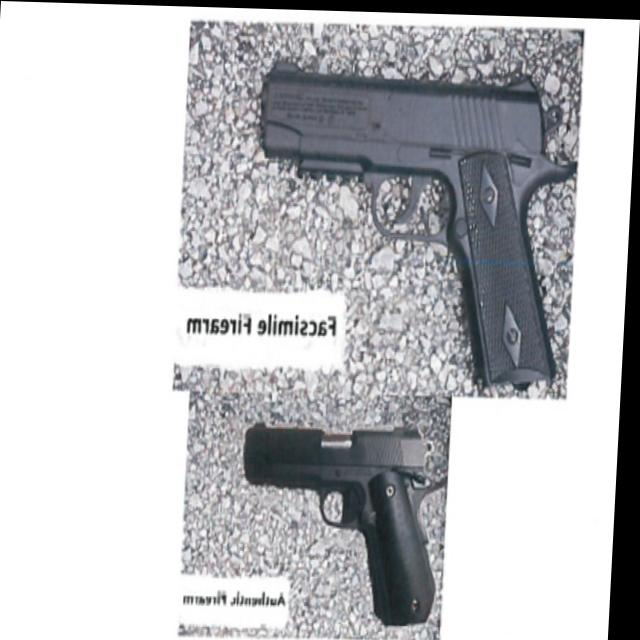handgun: (256, 43, 578, 392), (238, 397, 448, 638)
